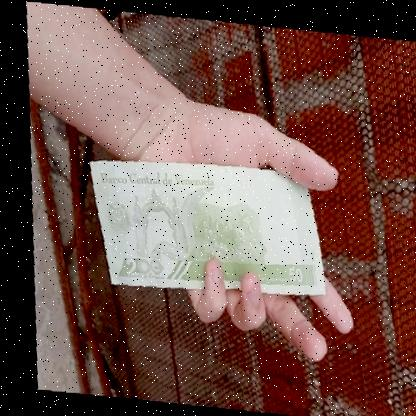fifty-back-vef: (86, 159, 321, 293)
